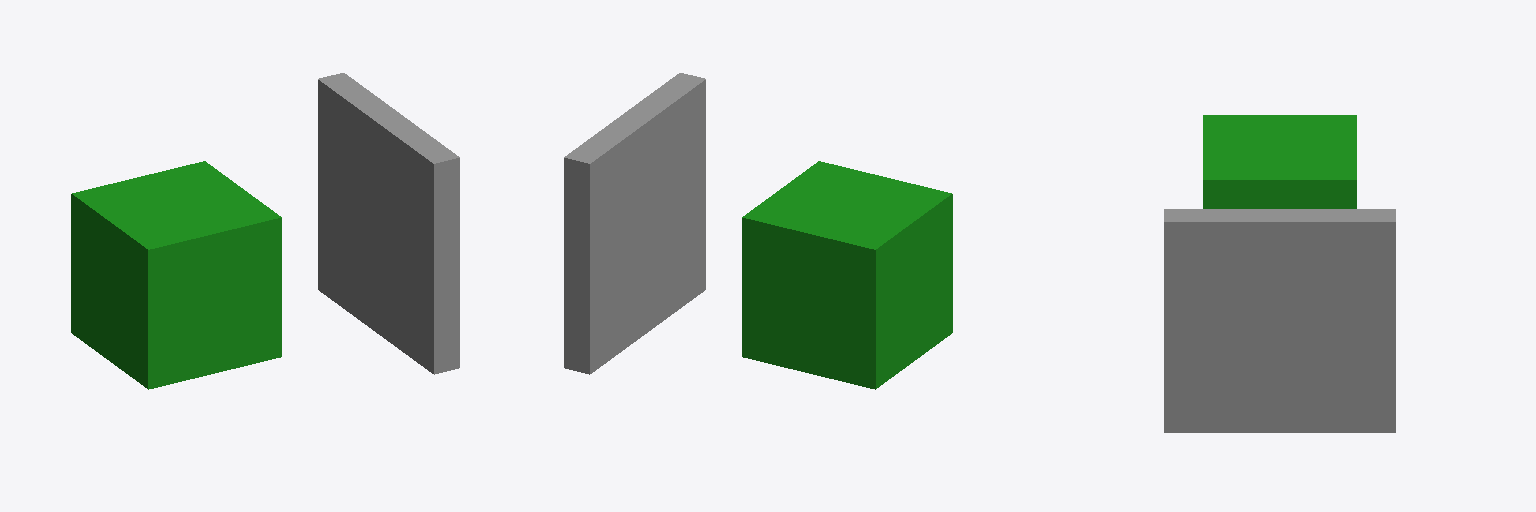
The model's file is texTest.obj.
3 renders of one model, left to right at view 1: azimuth 30°, elevation 25°; view 2: azimuth 150°, elevation 25°; view 3: azimuth 270°, elevation 25°, orthographic.
Parts seen in each view (by area): view 1: Cube_Cube_#33CC33, Cube_Cube_tex1; view 2: Cube_Cube_#33CC33, Cube_Cube_tex1; view 3: Cube_Cube_tex1, Cube_Cube_#33CC33.
Boxes of the visible parts, <box> form: Cube_Cube_#33CC33: <box>71,161,281,389</box>; Cube_Cube_tex1: <box>318,73,459,374</box>; Cube_Cube_#33CC33: <box>742,161,952,389</box>; Cube_Cube_tex1: <box>564,73,705,374</box>; Cube_Cube_tex1: <box>1164,209,1395,432</box>; Cube_Cube_#33CC33: <box>1203,115,1356,208</box>.
Size of the model in its own units: 2.22 by 1.53 by 1.53.